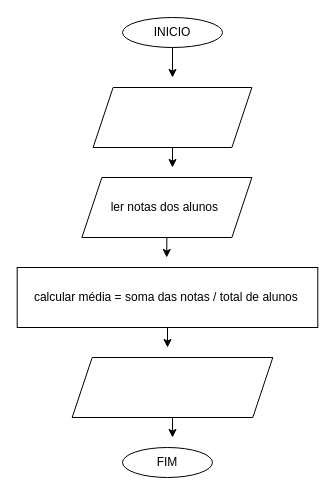
This 336x503 diagram has some shape labels left out. The box of each missing label's shape, as (x1, y1, x2, y2) in pixels:
exibir média da turma: (71, 356, 273, 418)
ler total de alunos: (92, 86, 252, 148)
